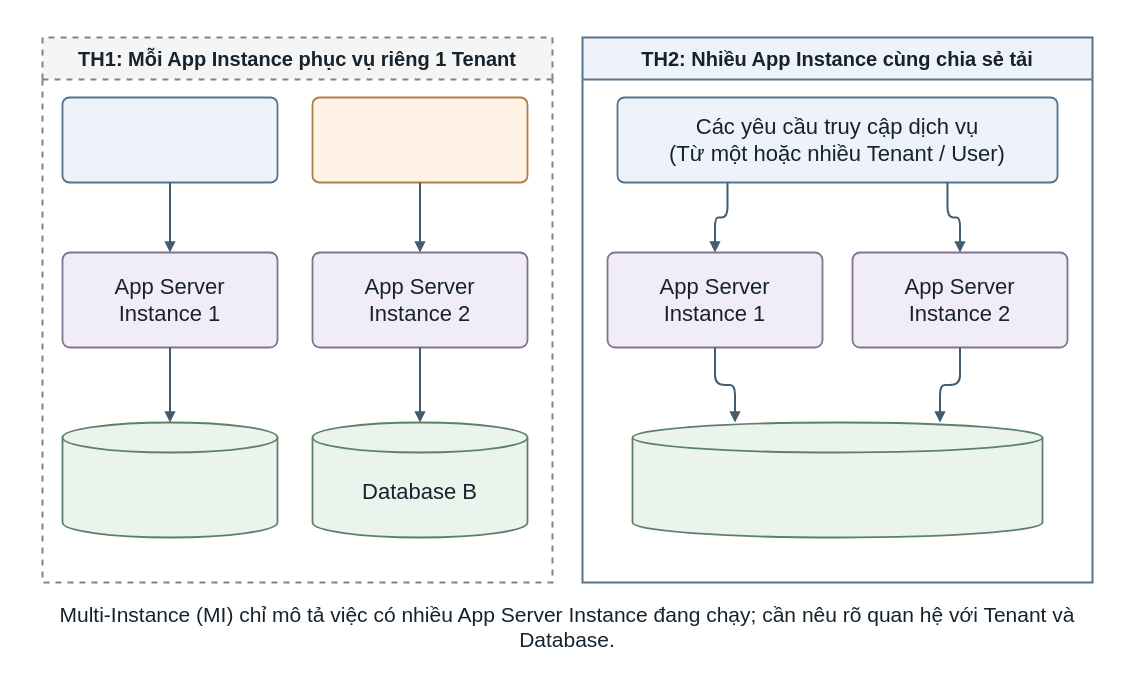
Some shapes in this 1134 by 674 pixel diagram are drawn without their labels. Each missing label, with the centre of its shape:
"Database A" belongs at (169,479).
"Database Server / Nguồn dữ liệu dùng chung" belongs at (837,479).
"Tenant A User A1, A2" belongs at (169,139).
"Tenant B User B1, B2" belongs at (419,139).
